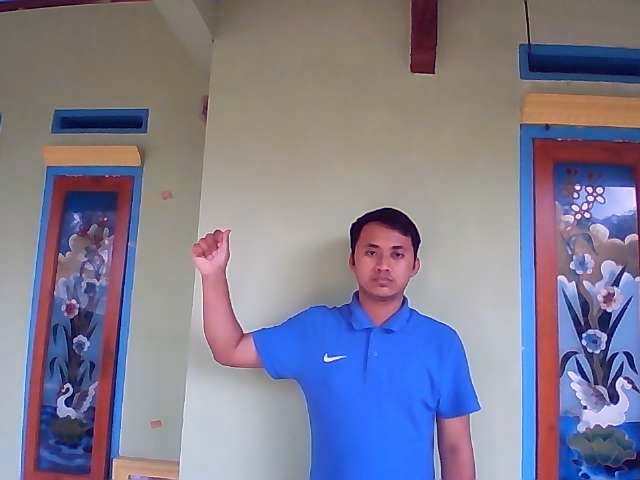A: (191, 228, 231, 273)
